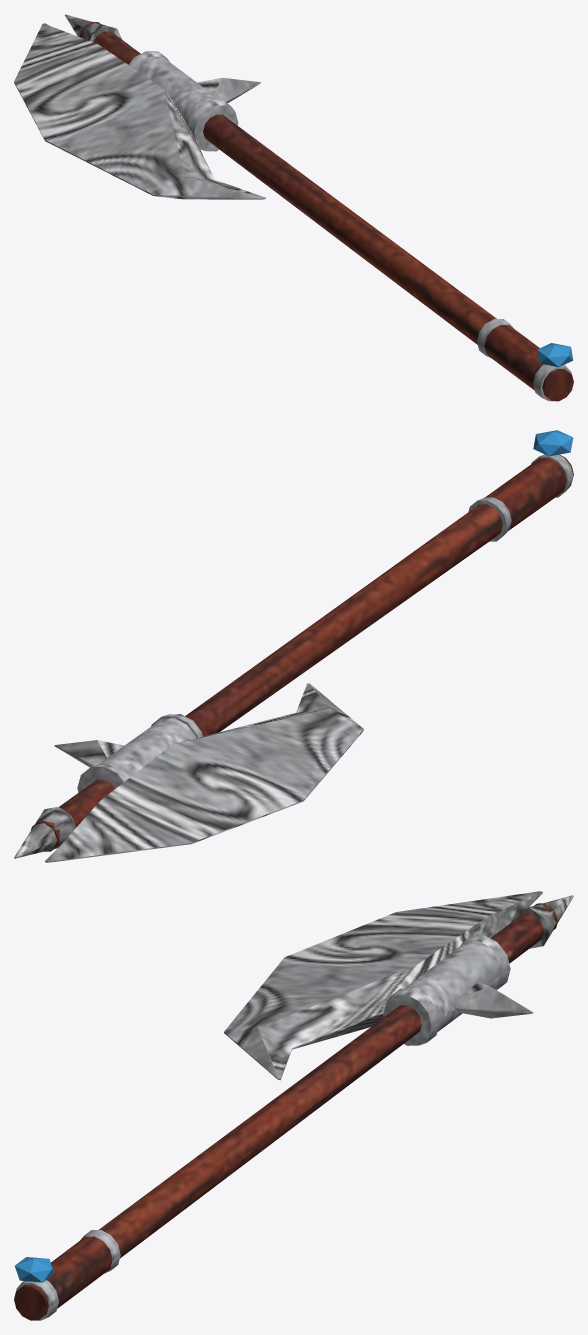
File: item_axe2.glb
3 views of the same model, one above another, from view 1: azimuth 30°, elevation 25°; view 2: azimuth 150°, elevation 25°; view 3: azimuth 330°, elevation 25° (orthographic). The views are drawn at different scales.
Visible parts, largest first — view 1: w02_axe2; view 2: w02_axe2; view 3: w02_axe2.
Boxes of the visible parts, x1,y1,x2,y2 form: w02_axe2: (14,14,573,401); w02_axe2: (14,430,573,862); w02_axe2: (14,891,573,1320).
Size of the model in its own units: 0.25 by 0.0612 by 0.9763.
Materials: 2 (1 with a texture image).
